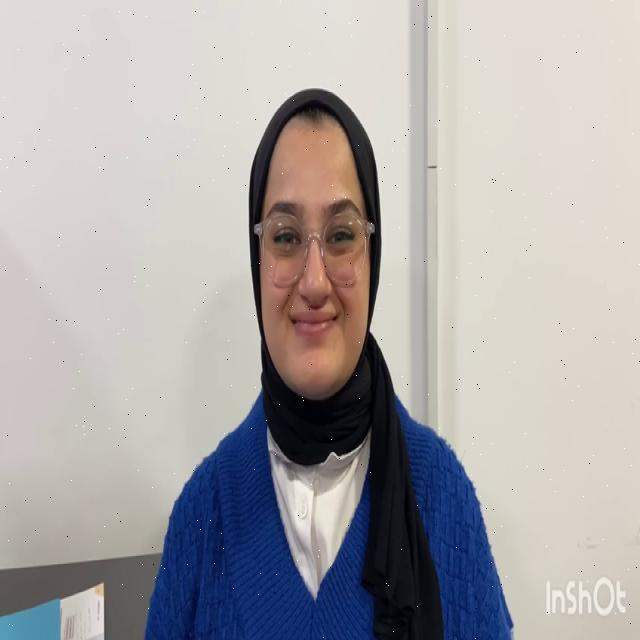happy: (245, 113, 381, 385)
